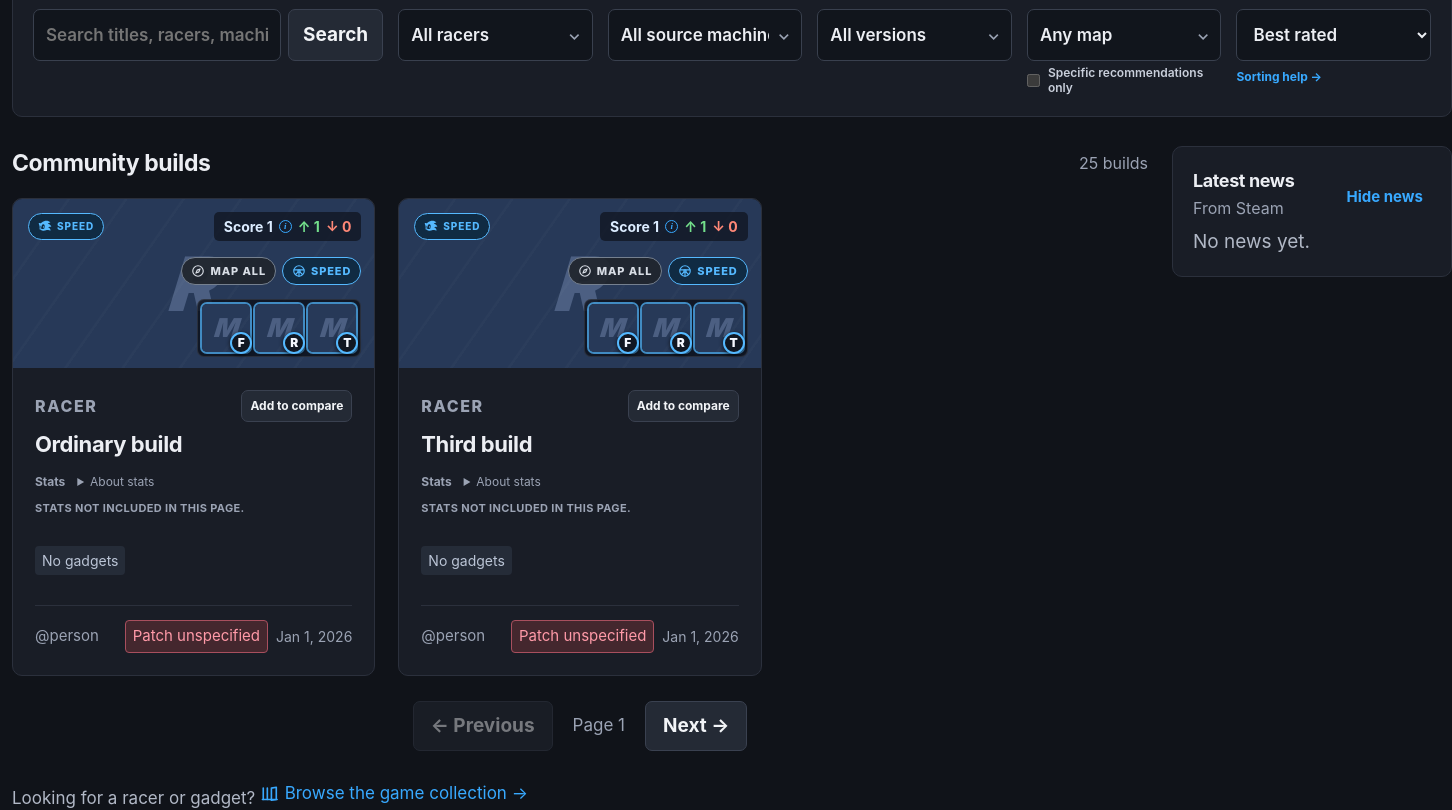
Test: clears remembered comparison metadata when the authenticated session changes
(page scrolled)
Click the button with aria-label "Compare Ordinary build" at (297, 406), box [241,390,352,422]
(page scrolled)
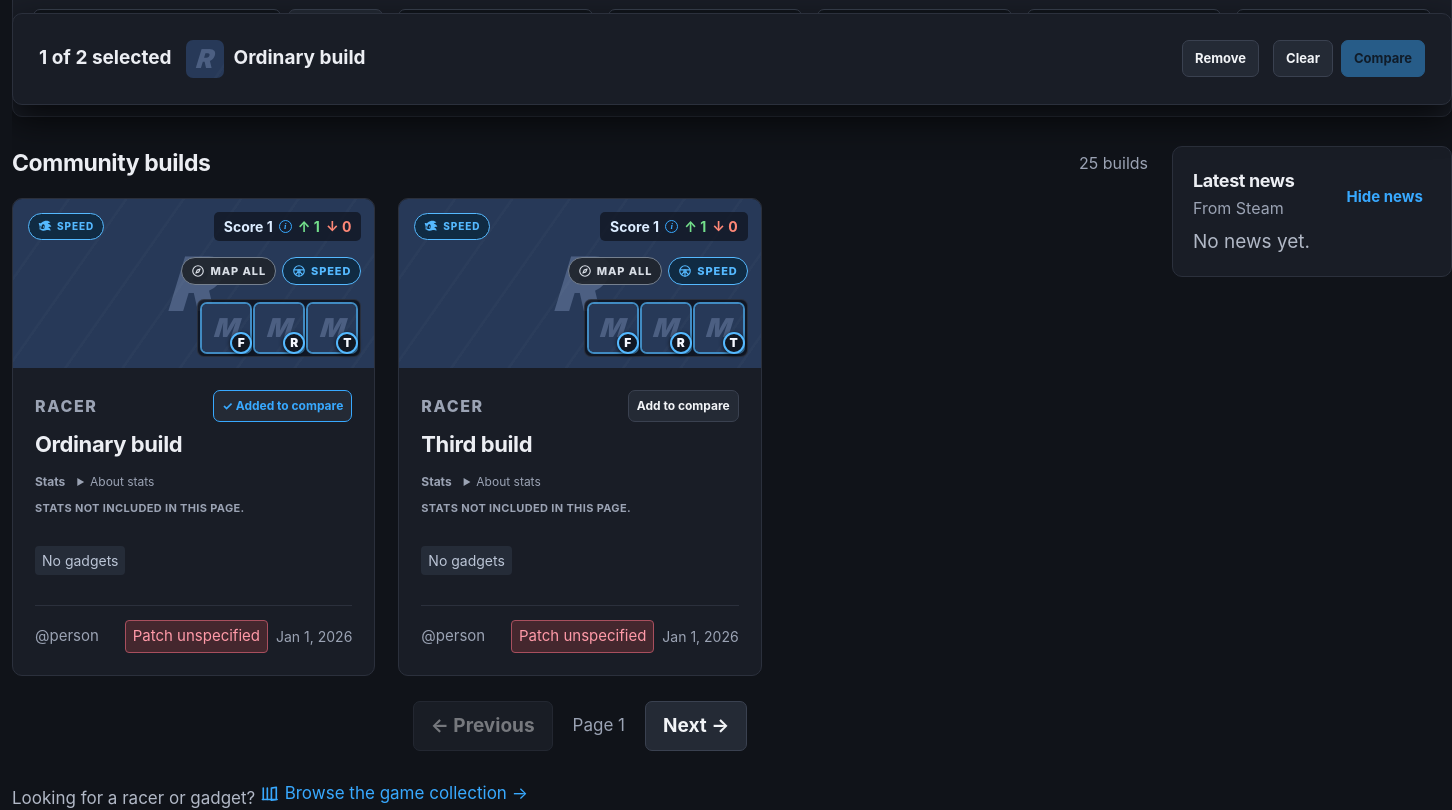
Expected: the text "Ordinary build" is shown, [234,46,366,69]
